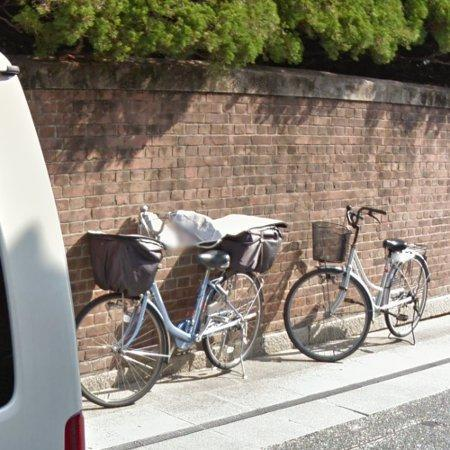bicycles: (77, 211, 262, 408), (286, 206, 431, 363)
